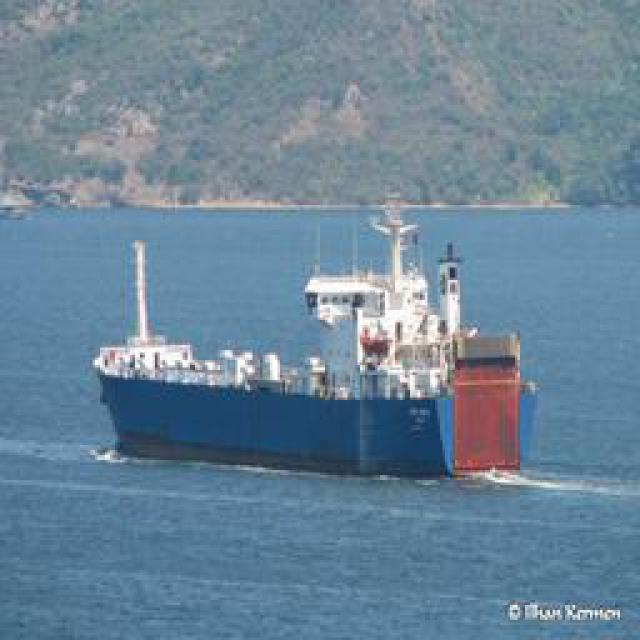Ship: (93, 195, 551, 473)
